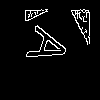A: (25, 25, 80, 72)
